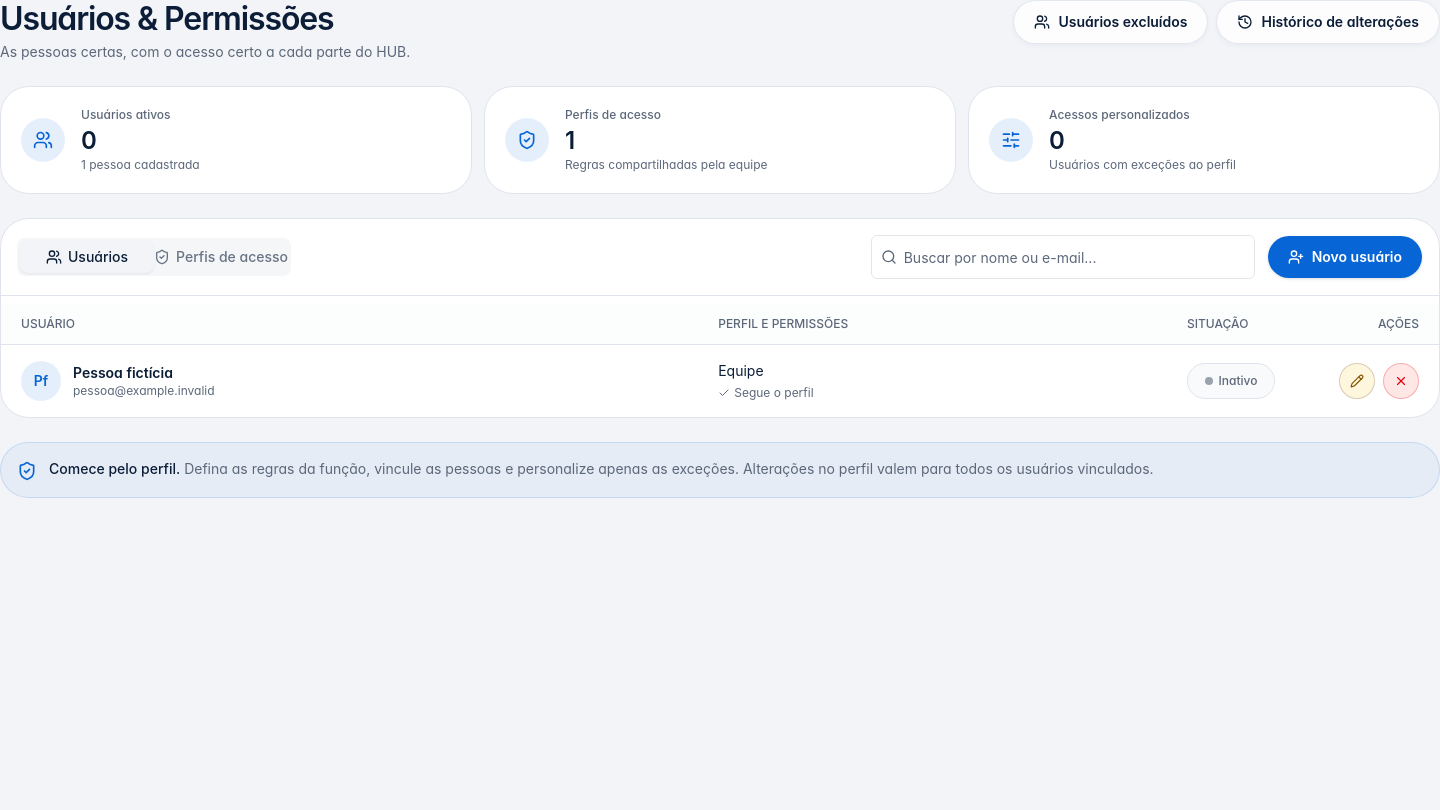
it: aba de atividades por usuário › não carrega históricos junto da listagem; aba preserva rascunho e não envia o cadastro
Click the button named "Gerenciar Pessoa fictícia" at (1357, 381), box 1339,363 -> 1375,399
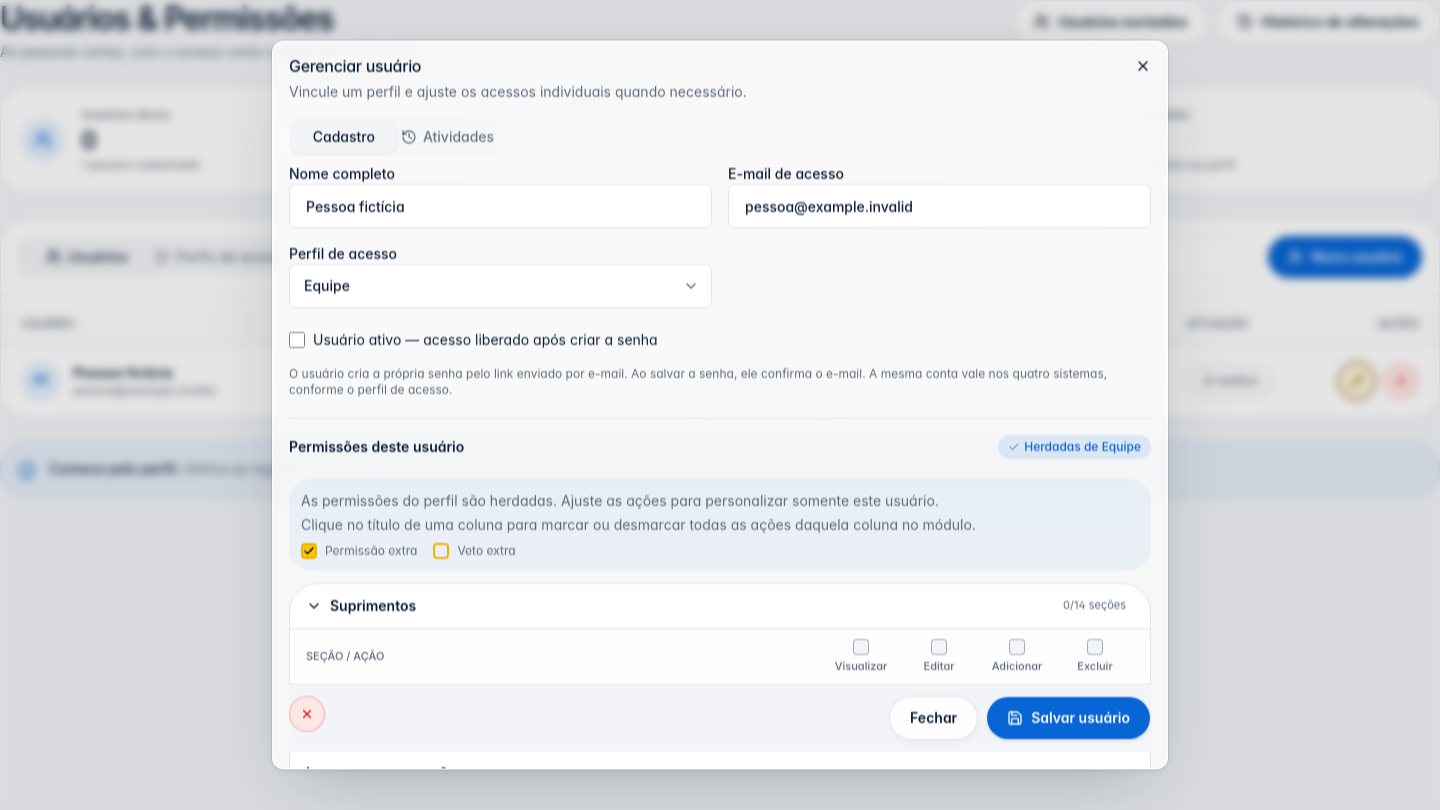
Replace the text in the field labelled "Nome completo" with "Rascunho preservado" at (500, 206), box 289,184 -> 712,228
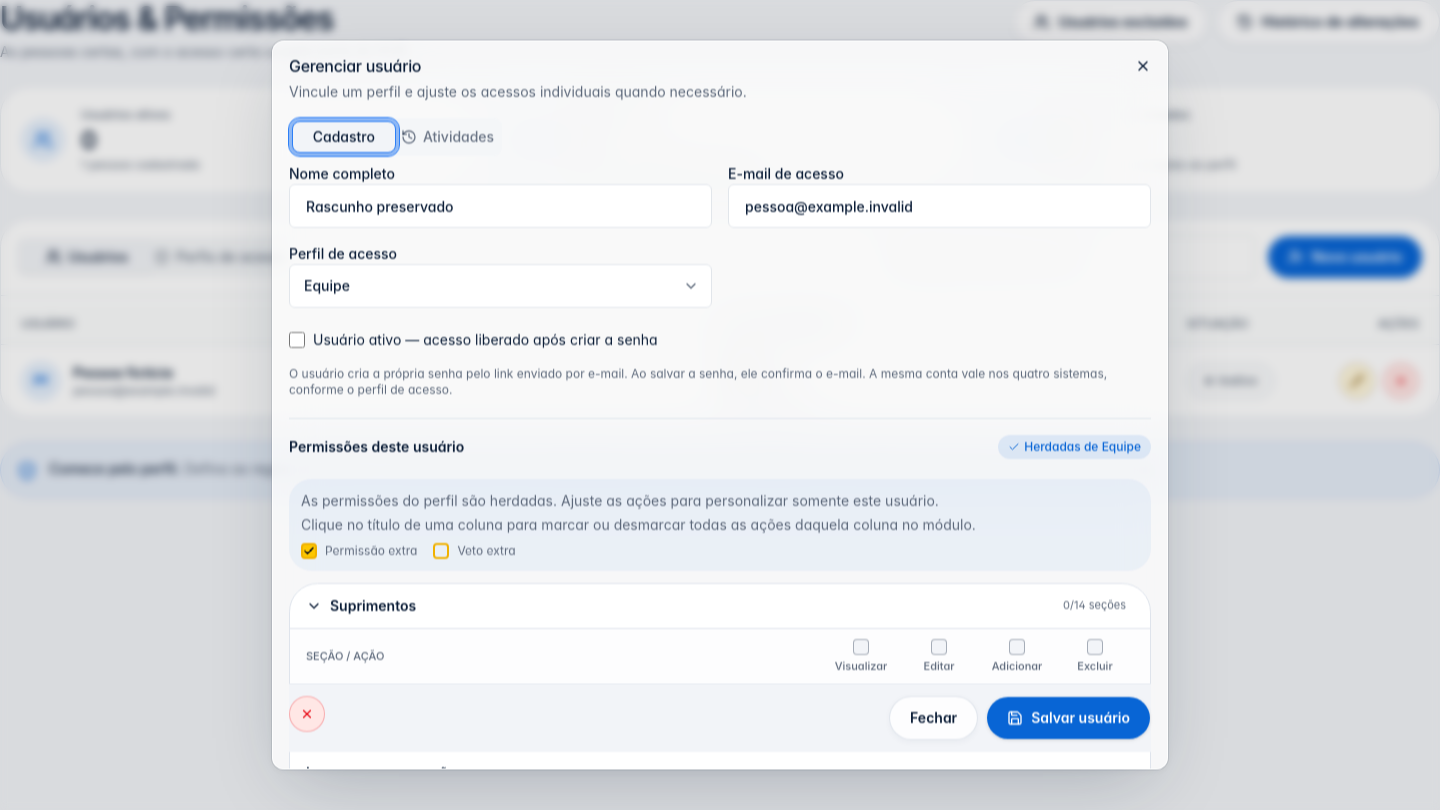
Click the tab "Atividades" at (448, 136), box 396,120 -> 499,152
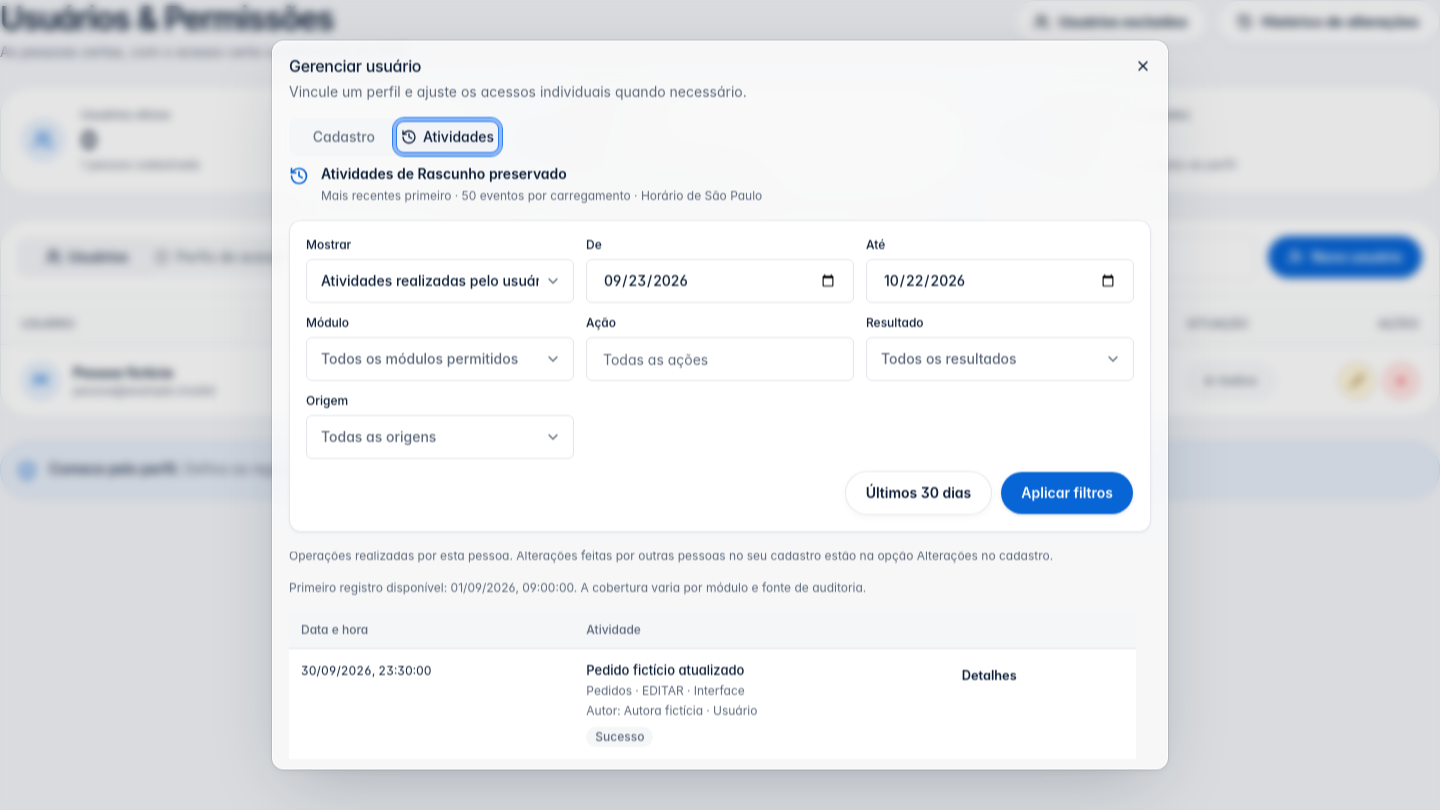
Check: the text "Pedido fictício atualizado" is shown, box 586,661 -> 744,677
Check: the button "Salvar usuário" is gone
Click the tab "Cadastro" at (344, 136), box 292,120 -> 396,152
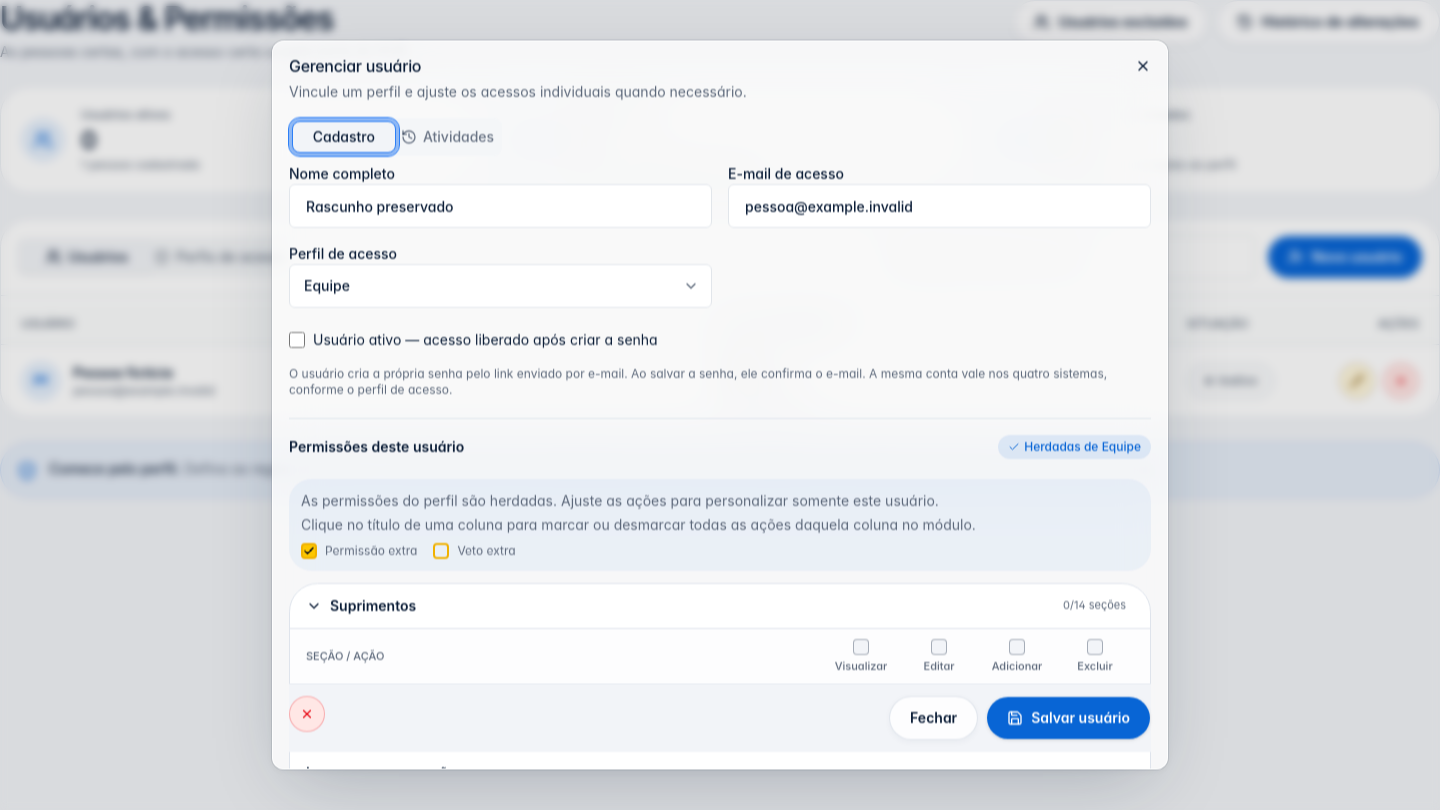
Check: the button named "Excluir usuário" is shown, box 289,696 -> 325,732
